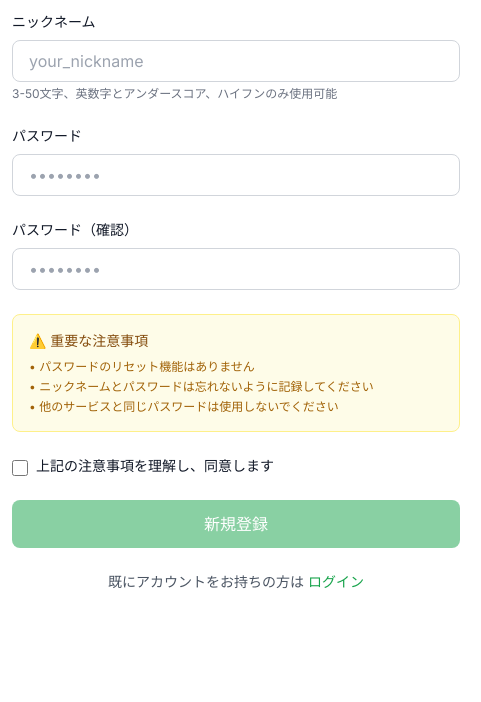
Test: RegisterForm › User Input › should clear field error when user types
The width and height of the screenshot is (481, 702).
// Type invalid data
Type "ab" into the field labelled "ニックネーム" at (236, 61), box [12, 40, 460, 82]
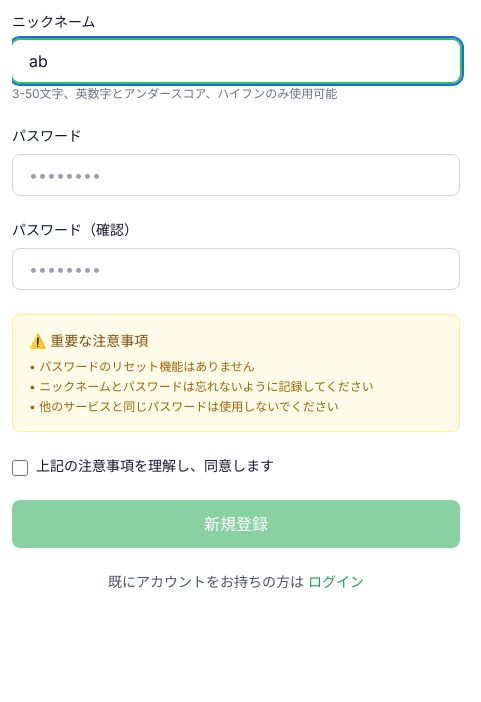
Type "password123" into the password field labelled "パスワード" at (236, 175), box [12, 154, 460, 196]
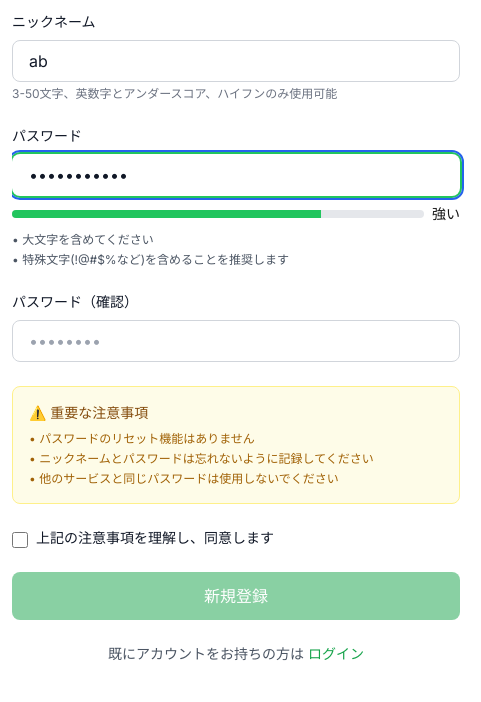
Type "password123" into the password field labelled "パスワード（確認）" at (236, 341), box [12, 320, 460, 362]
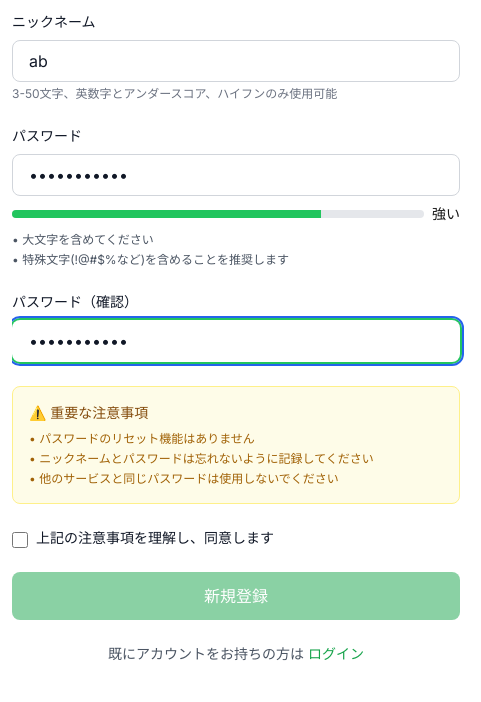
Click the checkbox labelled "上記の注意事項を理解し、同意します" at (20, 540), box [12, 532, 28, 548]
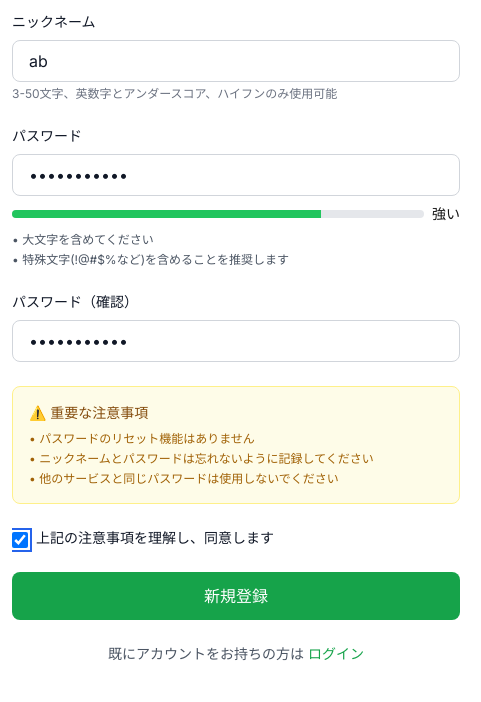
Submit the form
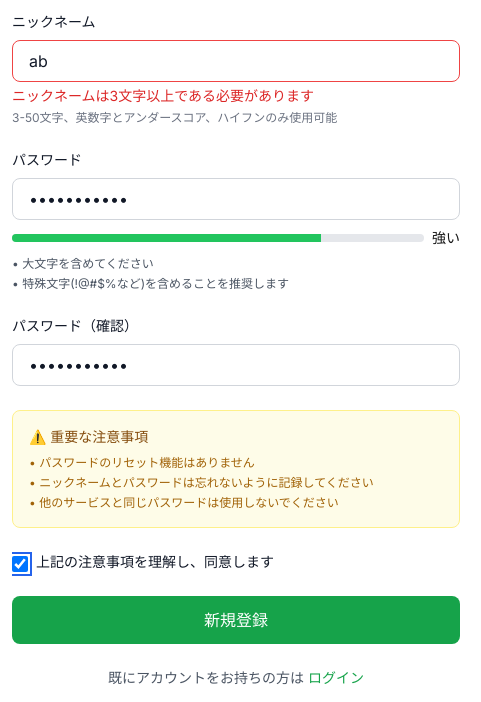
Result: the text "ニックネームは3文字以上である必要があります" is shown at [12, 87, 314, 104]
Type "c" into the field labelled "ニックネーム" at (236, 61), box [12, 40, 460, 82]
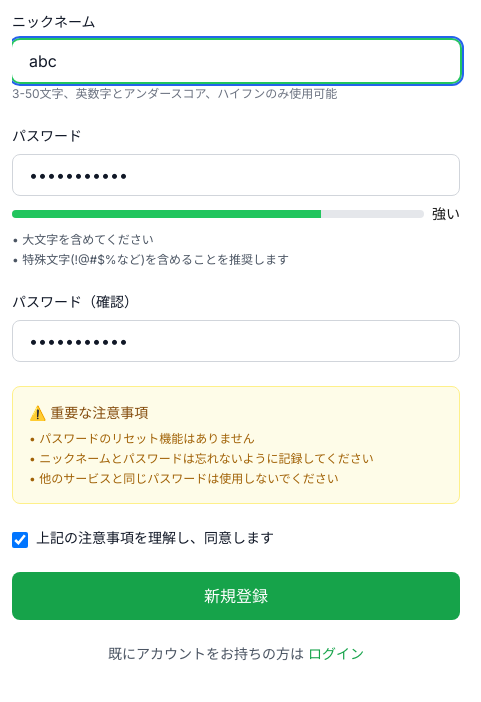
Result: the text "3文字以上である必要があります" is gone
